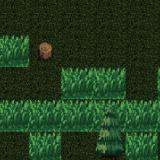Obstacle: (29, 35, 62, 67), (94, 132, 125, 160)
Slow: (0, 100, 160, 132), (62, 67, 126, 99), (0, 34, 29, 66), (126, 131, 158, 160), (28, 132, 60, 160)
